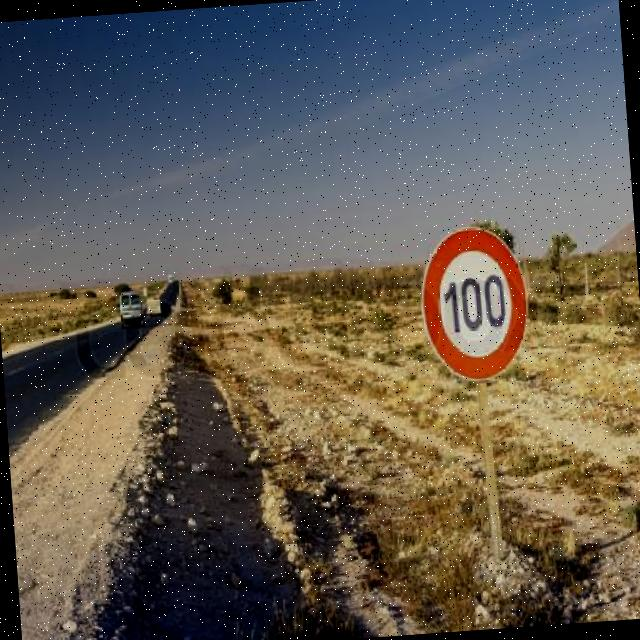Ograniczenie predkosci do 100: (421, 224, 532, 386)
